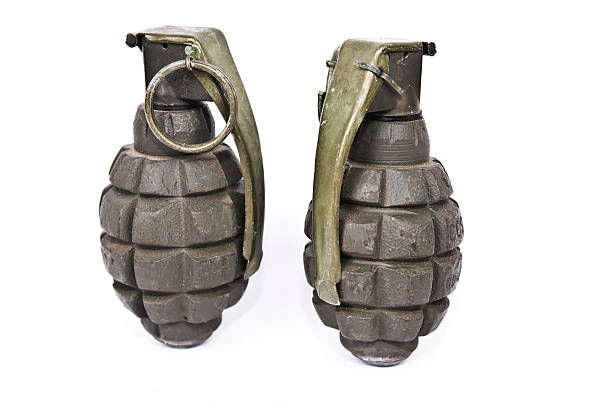e1: (101, 25, 267, 346), (300, 37, 462, 365)
